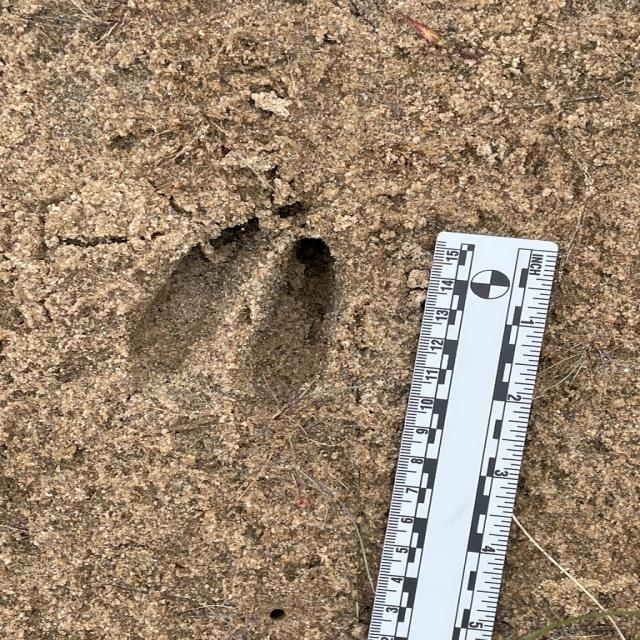deer: (142, 229, 333, 399)
